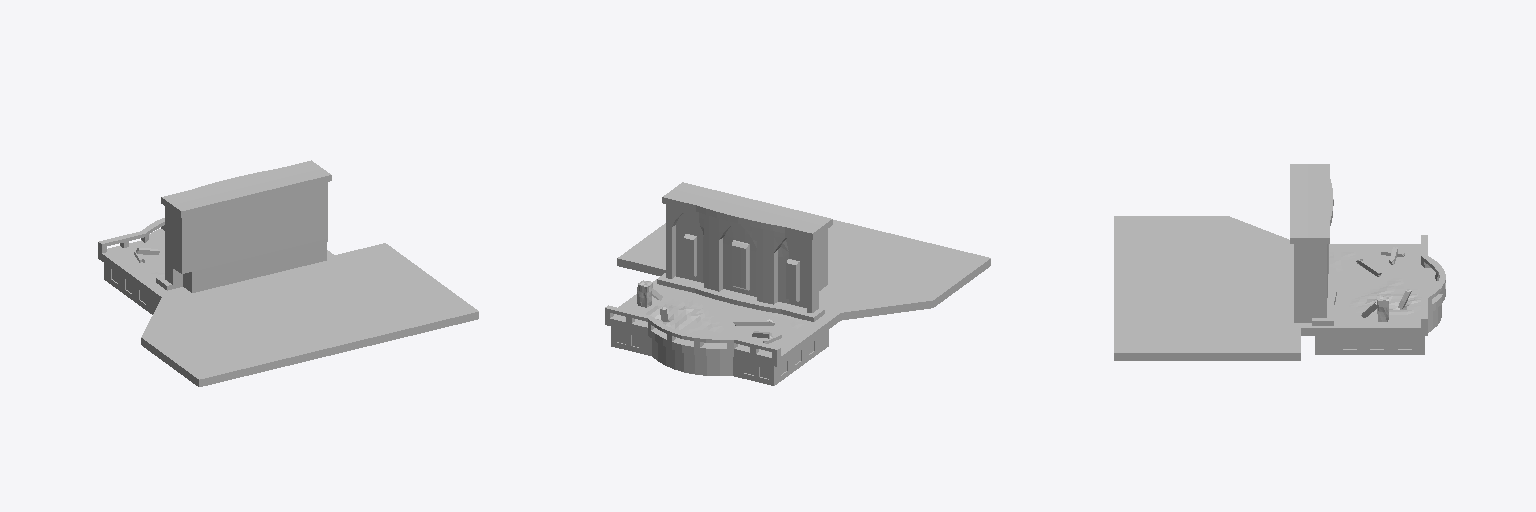
Rendered from platform_statues.obj.
The picture shows the model from 3 angles: view 1: azimuth 30°, elevation 25°; view 2: azimuth 150°, elevation 25°; view 3: azimuth 270°, elevation 25°; orthographic projection.
Parts seen in each view (by area): view 1: Cube_Cube.001_Cube_Cube.001_auv_Cube_Cube.001_Cube_Cube.001_auv; view 2: Cube_Cube.001_Cube_Cube.001_auv_Cube_Cube.001_Cube_Cube.001_auv; view 3: Cube_Cube.001_Cube_Cube.001_auv_Cube_Cube.001_Cube_Cube.001_auv.
Boxes of the visible parts, box(x1,y1,x2,y2) form: Cube_Cube.001_Cube_Cube.001_auv_Cube_Cube.001_Cube_Cube.001_auv: box(98, 160, 478, 386); Cube_Cube.001_Cube_Cube.001_auv_Cube_Cube.001_Cube_Cube.001_auv: box(605, 182, 990, 385); Cube_Cube.001_Cube_Cube.001_auv_Cube_Cube.001_Cube_Cube.001_auv: box(1114, 164, 1445, 360).
Size of the model in its own units: 21.09 by 8.32 by 21.68.